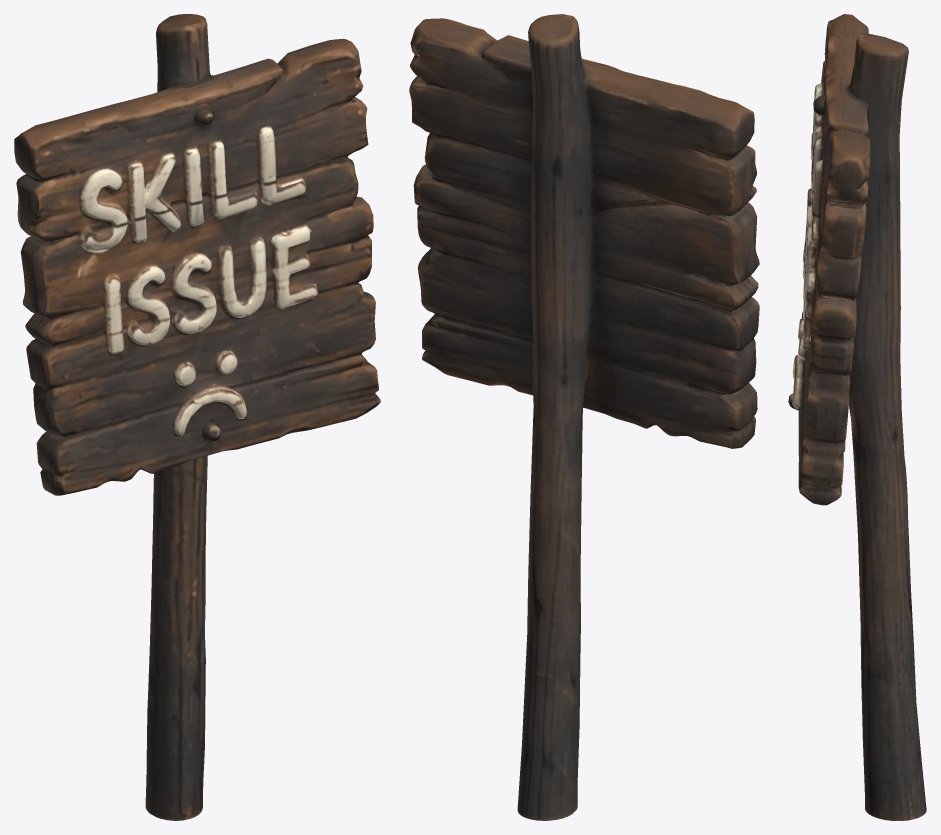
File: SignSkillIssue.glb
3 views of the same model, side by side, from view 1: azimuth 30°, elevation 25°; view 2: azimuth 150°, elevation 25°; view 3: azimuth 270°, elevation 25° (orthographic). The views are drawn at different scales.
Visible parts, largest first — view 1: SignSkillIssue; view 2: SignSkillIssue; view 3: SignSkillIssue.
Part boxes in pixels (box(x1,y1,x2,y2)): SignSkillIssue: box(14, 14, 380, 820); SignSkillIssue: box(409, 14, 759, 820); SignSkillIssue: box(788, 14, 926, 820).
Size of the model in its own units: 0.9572 by 2.16 by 0.351.
Materials: 1 (1 with a texture image).
